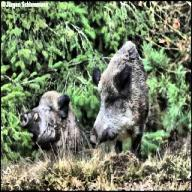boar: (88, 40, 150, 160), (18, 90, 90, 160)
